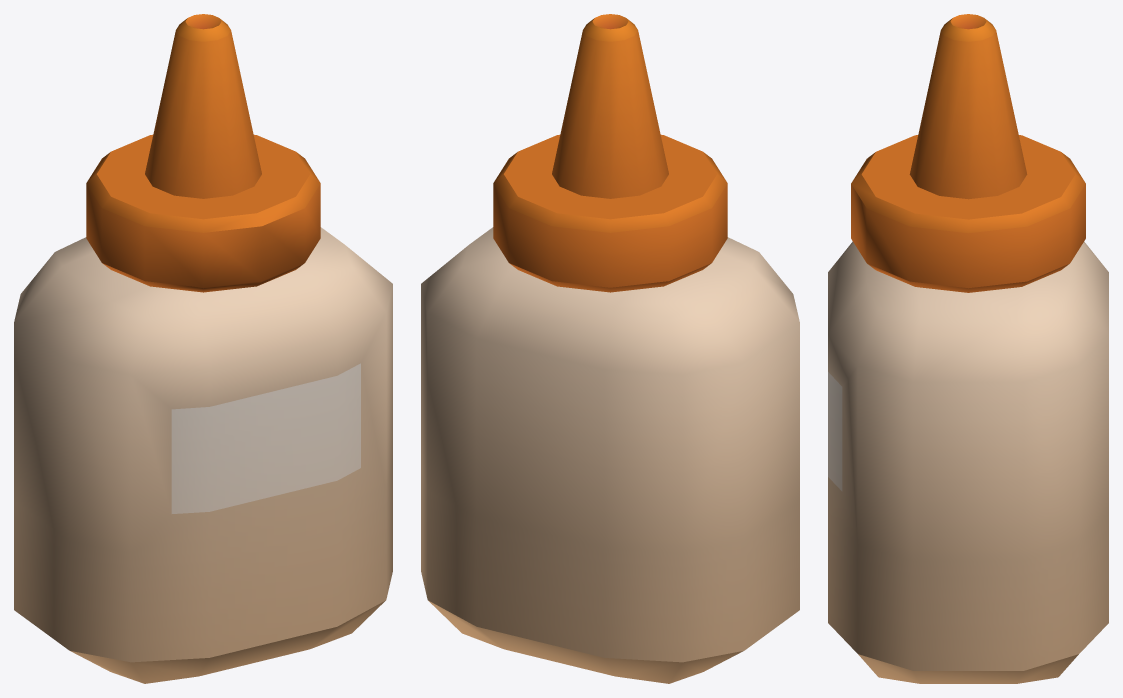
The model's file is Glue_A.obj.
3 views of the same model, side by side, from view 1: azimuth 30°, elevation 25°; view 2: azimuth 150°, elevation 25°; view 3: azimuth 270°, elevation 25° (orthographic).
Parts seen in each view (by area): view 1: Glue_A; view 2: Glue_A; view 3: Glue_A.
Boxes of the visible parts, left/top/right/bottom form: Glue_A: left=14, top=14, right=392, bottom=683; Glue_A: left=421, top=14, right=799, bottom=683; Glue_A: left=828, top=14, right=1108, bottom=683.
Bounding box in the file's own units: 0.3305 × 0.5901 × 0.2482.
1 material, 1 textured.
